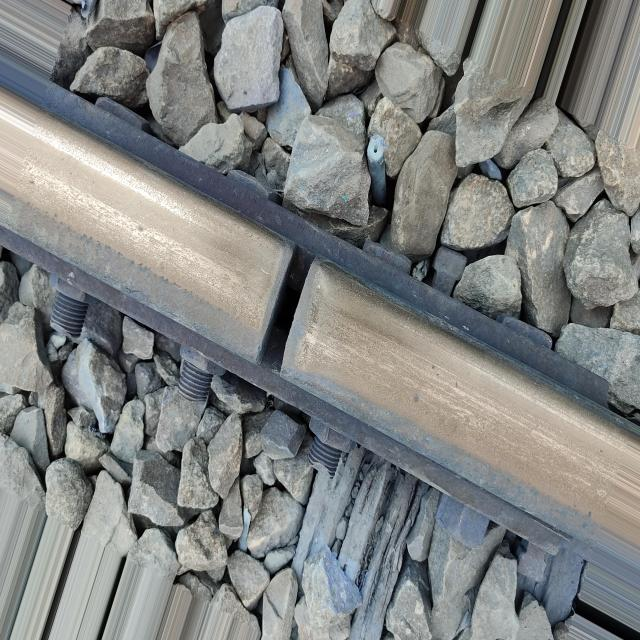crack: (247, 212, 322, 389)
